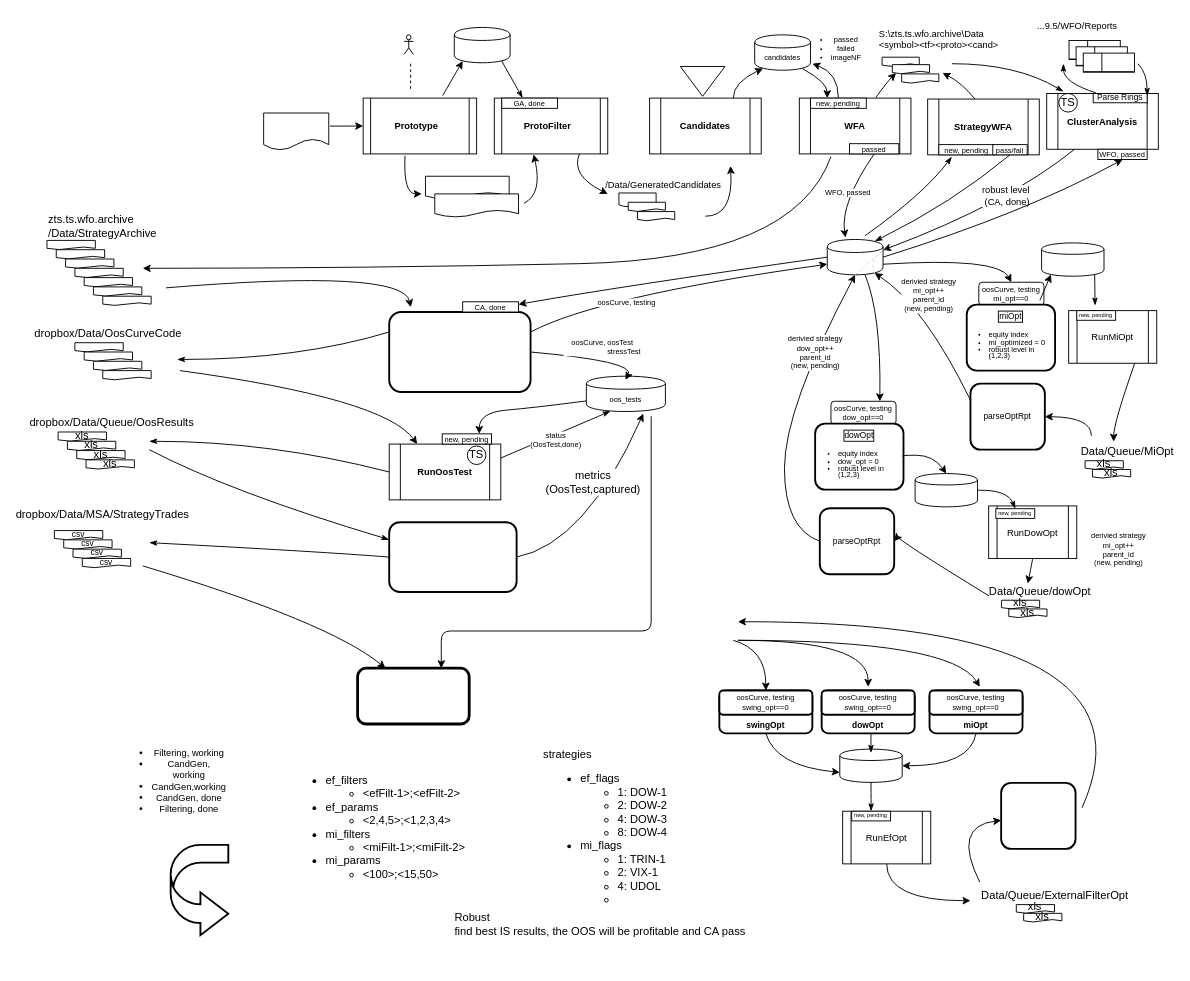
Some shapes in this 1190 by 981 pixel diagram are drawn without their labels. Each missing label, with the centre of its shape:
CAND: the point at 702,81
captureData: the point at 452,556
config.xlsx: the point at 296,131
dow_opt: the point at 946,490
ef_opt: the point at 870,765
mi_optimizations: the point at 1072,259
MSA: the point at 413,695
oosCurve add transaction costs gen oos curve code add OOS test add Stress Tests: the point at 459,351
parseEfRpt: the point at 1038,815
prototypes: the point at 481,45
S:\zts.dp\InSample: the point at 467,187
S:\zts.dp\OutOfSample: the point at 476,205
strategies: the point at 854,257
